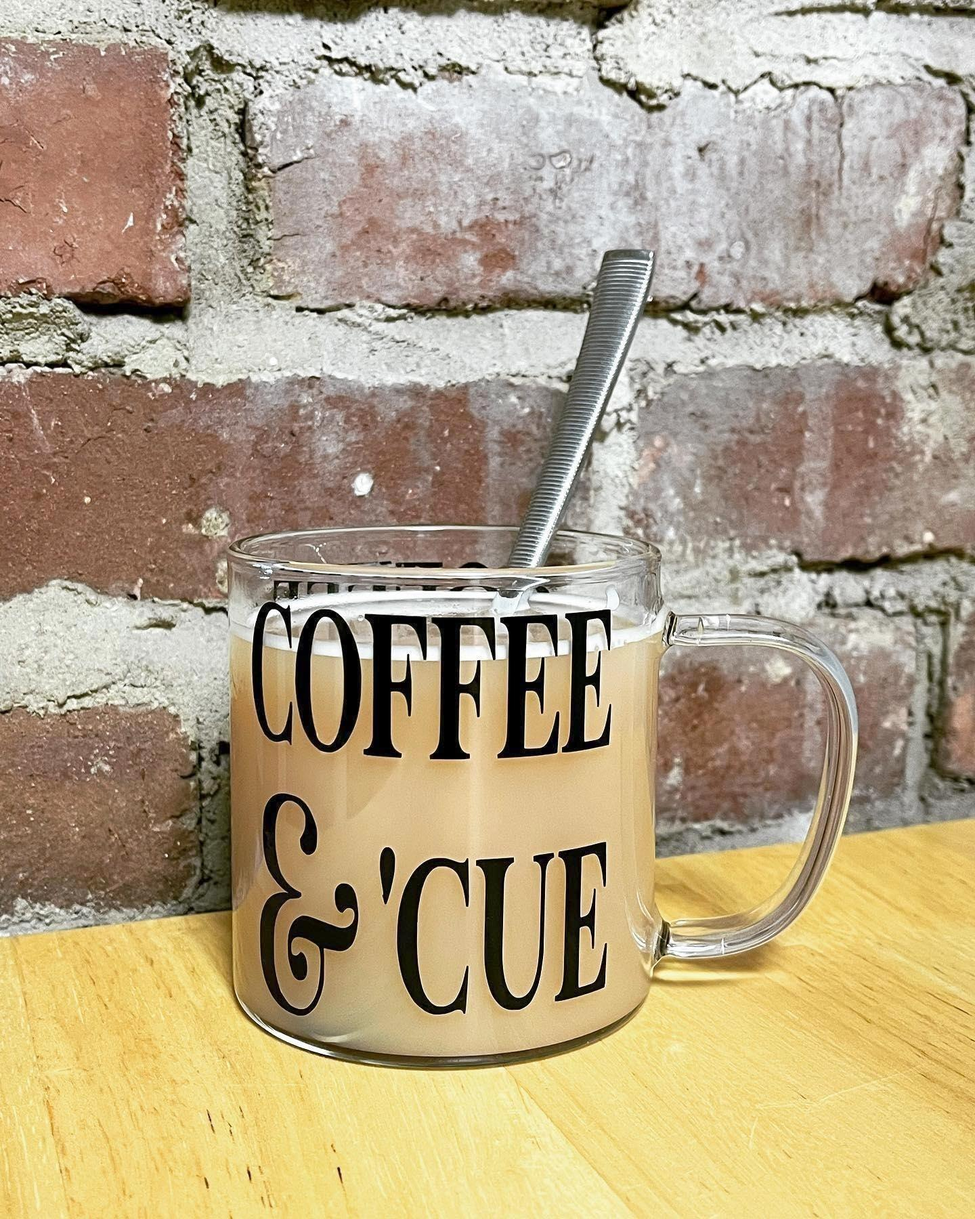glass-mug: (207, 512, 873, 1087)
